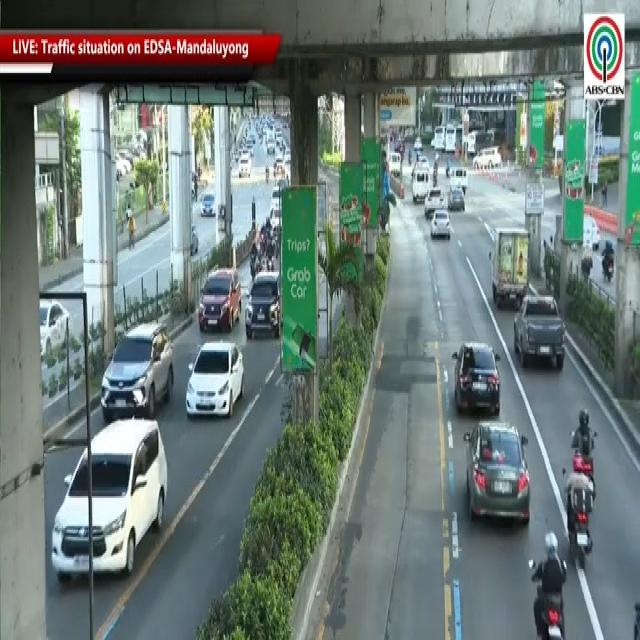car: (48, 416, 164, 596), (96, 322, 178, 426), (462, 418, 532, 526), (188, 338, 251, 427), (513, 288, 562, 380), (454, 338, 500, 421), (245, 268, 288, 346), (195, 265, 242, 334)
motorbike: (528, 527, 571, 640), (559, 449, 597, 574), (567, 404, 599, 494)
truck: (488, 217, 534, 310)
